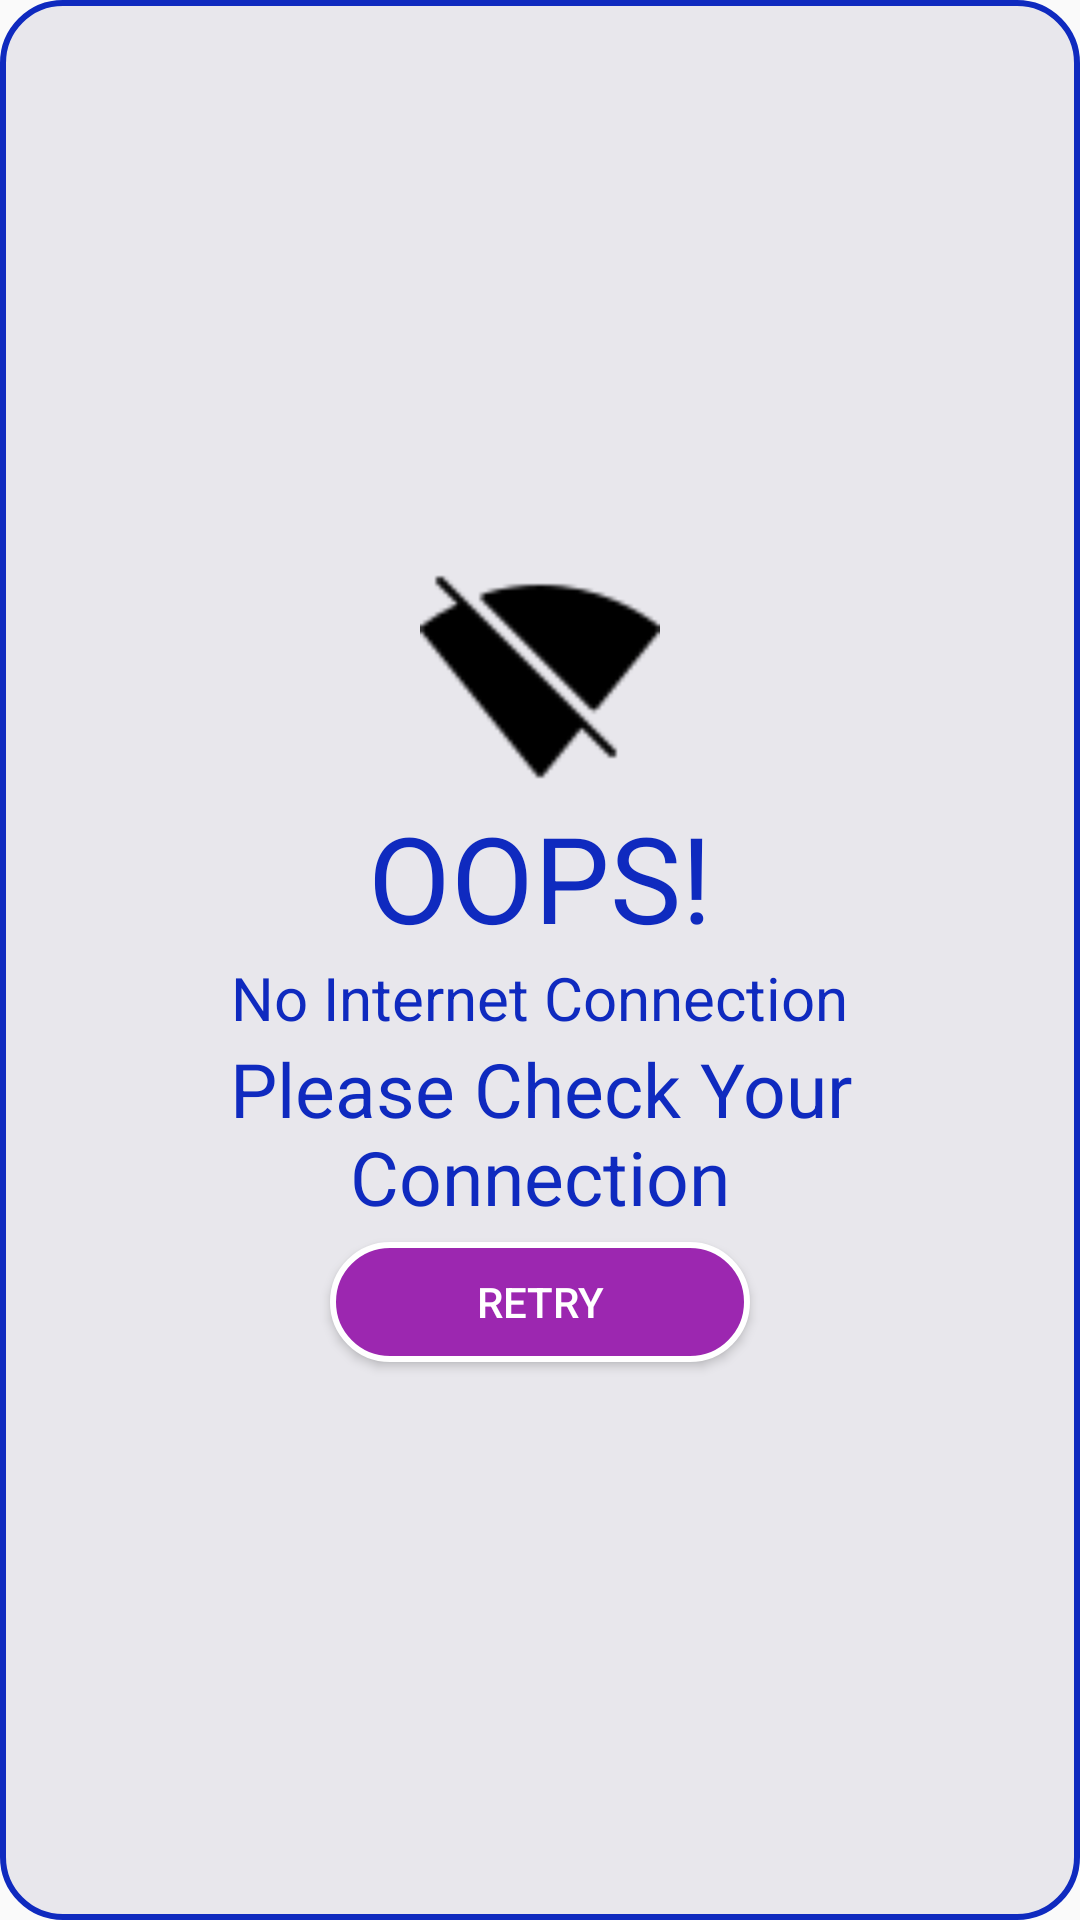

Icon bounding boxes for this 1080x1920 phone screenshot, format (x1, y1, x2, y2):
no wifi: (420, 575, 660, 778)
